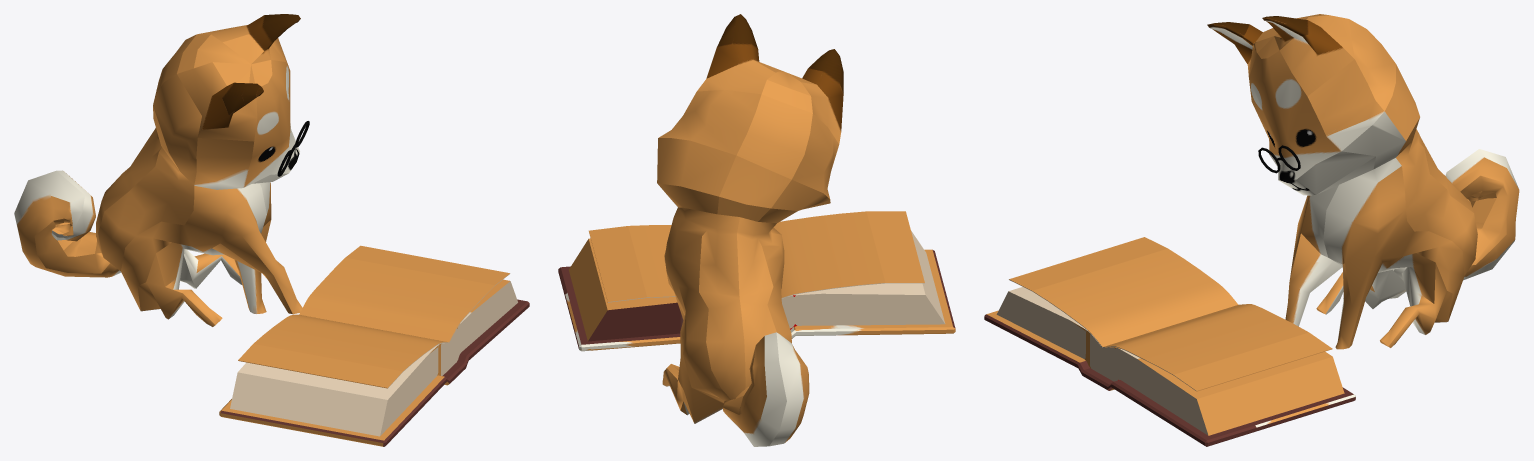
Rendered from book_frame28.obj.
The picture shows the model from 3 angles, left to right: view 1: azimuth 30°, elevation 25°; view 2: azimuth 150°, elevation 25°; view 3: azimuth 270°, elevation 25°; orthographic projection. The views are drawn at different scales.
Parts seen in each view (by area): view 1: StidyGlasses_Computer_Sitting:Sitting:newRigging:BodzL1, polySurface1; view 2: StidyGlasses_Computer_Sitting:Sitting:newRigging:BodzL1, polySurface1; view 3: StidyGlasses_Computer_Sitting:Sitting:newRigging:BodzL1, polySurface1.
Boxes of the visible parts, x1,y1,x2,y2 form: StidyGlasses_Computer_Sitting:Sitting:newRigging:BodzL1: (14, 14, 302, 326); polySurface1: (219, 245, 529, 446); StidyGlasses_Computer_Sitting:Sitting:newRigging:BodzL1: (657, 14, 843, 446); polySurface1: (558, 211, 955, 351); StidyGlasses_Computer_Sitting:Sitting:newRigging:BodzL1: (1207, 14, 1519, 349); polySurface1: (984, 237, 1355, 446).
Size of the model in its own units: 9.18 by 7.54 by 11.02.
4 materials, 4 textured.
